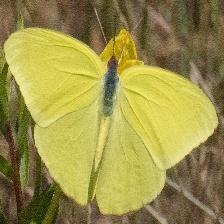butterfly: (3, 27, 219, 218)
